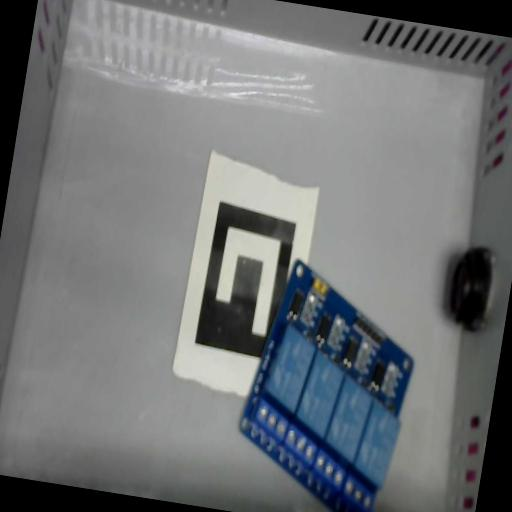QR: (168, 150, 322, 404)
relay_module: (225, 251, 428, 512)
